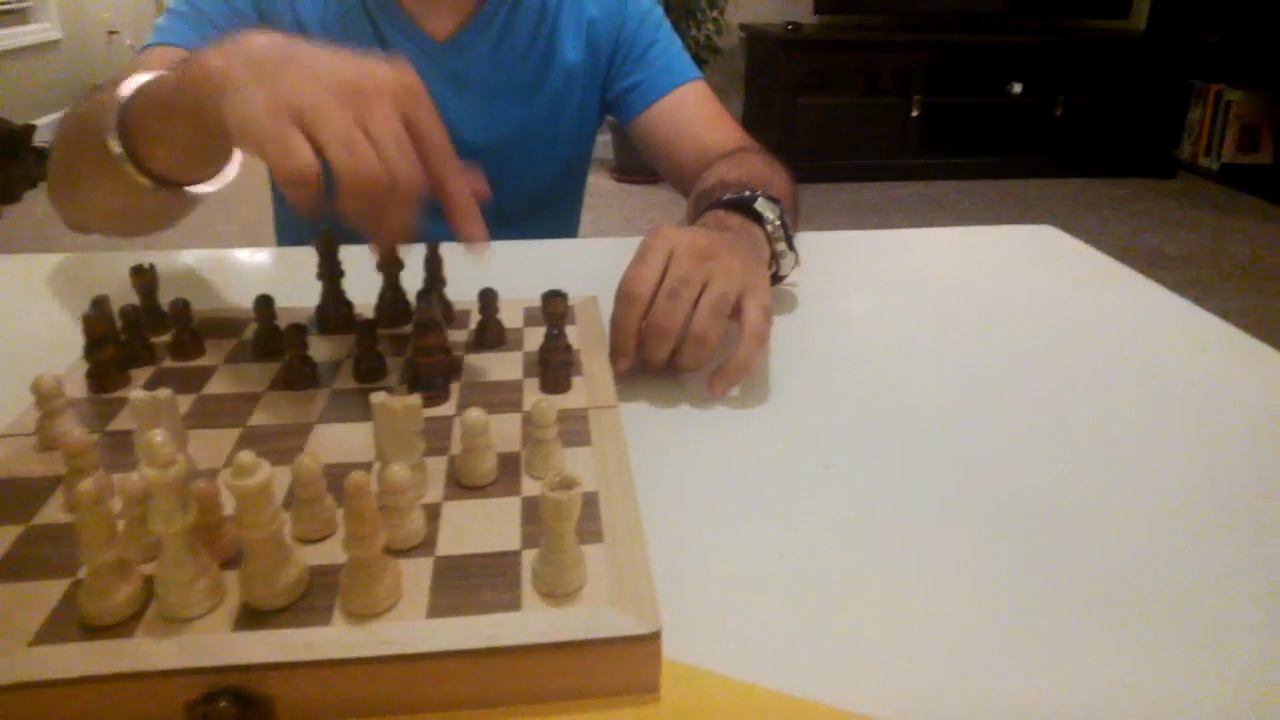hand: (183, 31, 485, 238), (606, 221, 769, 394)
